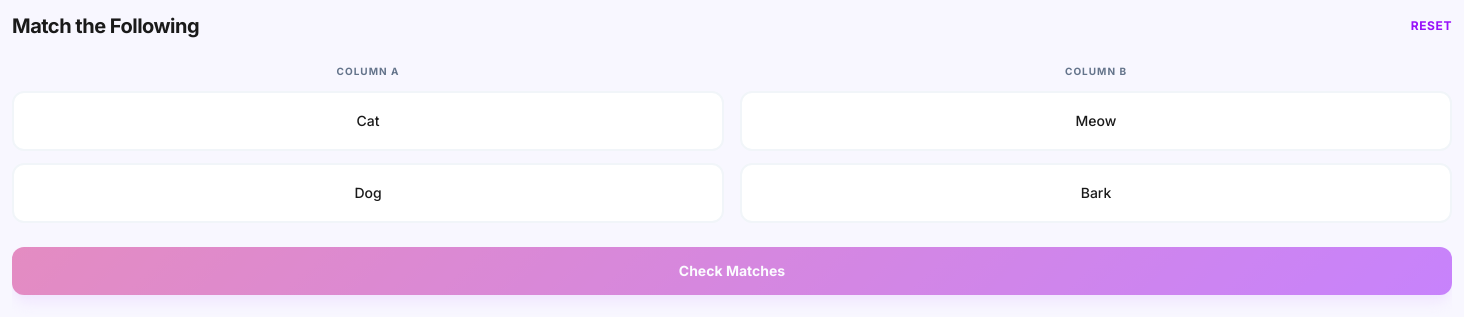
MatchCard › locks an item as matched so it can no longer be selected
The width and height of the screenshot is (1464, 317).
Click the button "Cat" at {"x": 368, "y": 121}, box [12, 91, 724, 151]
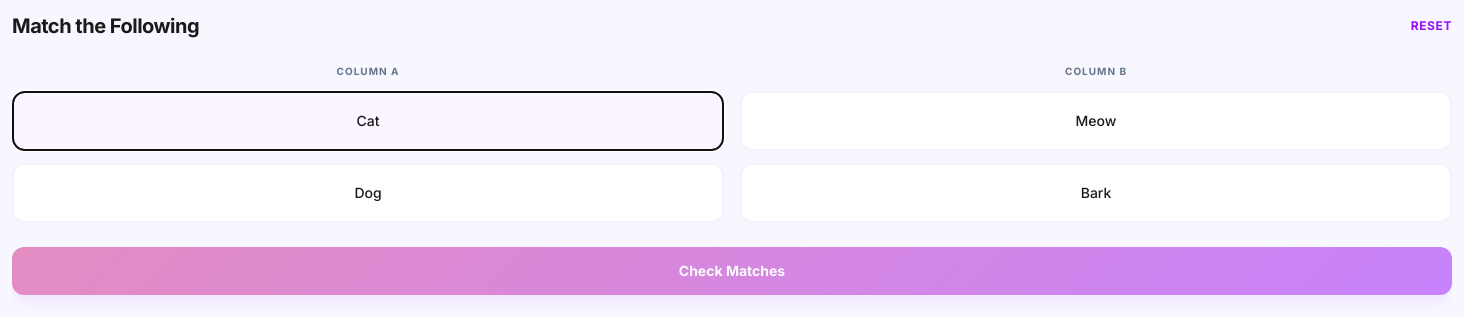
Click the button "Meow" at {"x": 1096, "y": 121}, box [740, 91, 1452, 151]
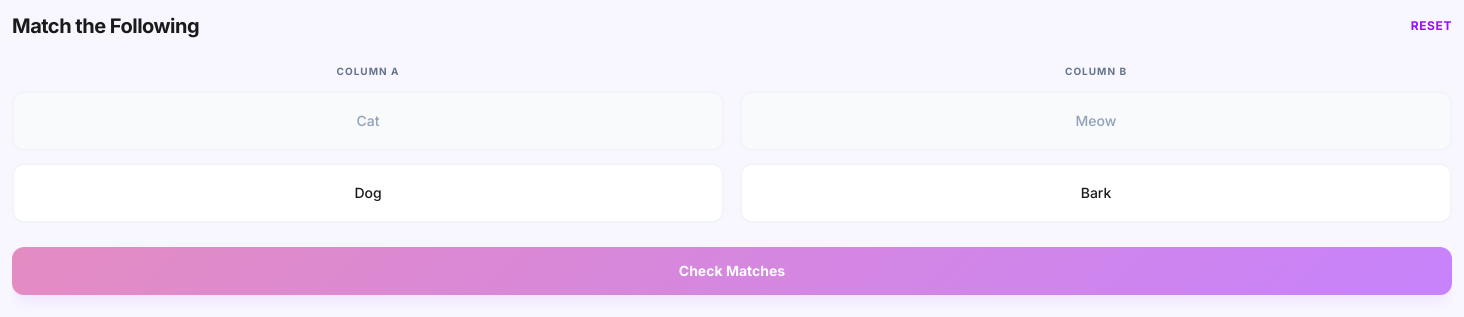
Expected: the button "Cat" is disabled, [12, 91, 724, 151]
Expected: the button "Meow" is disabled, [740, 91, 1452, 151]
